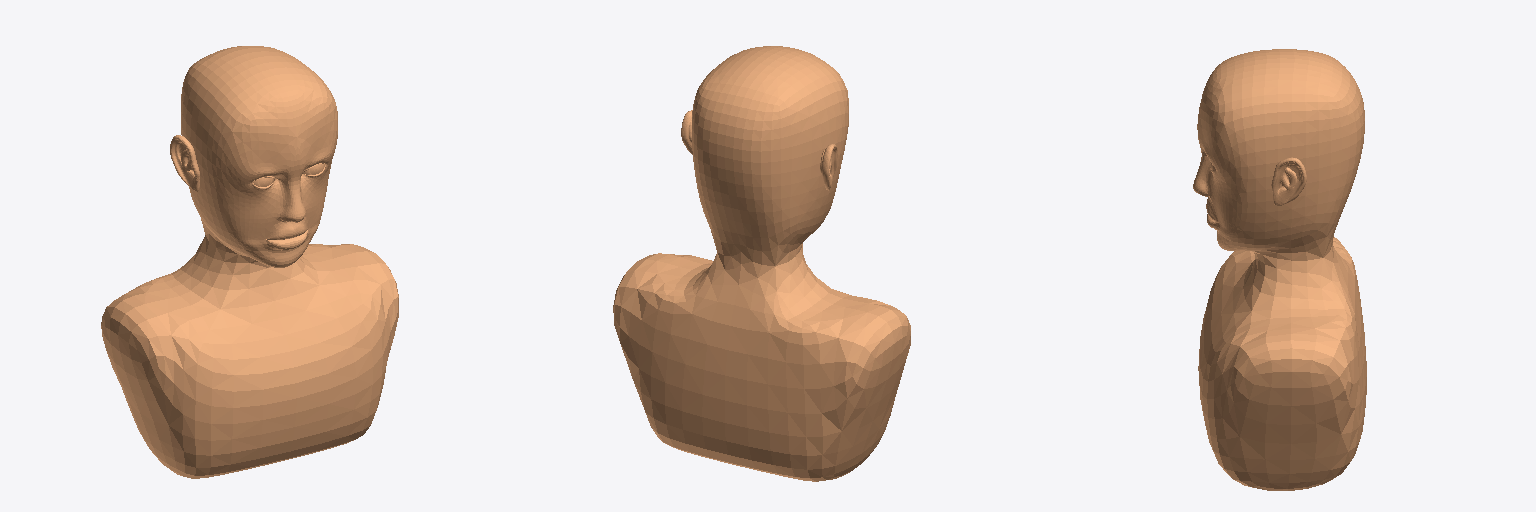
Rendered from doll.obj.
3 renders of one model, left to right at view 1: azimuth 30°, elevation 25°; view 2: azimuth 150°, elevation 25°; view 3: azimuth 270°, elevation 25°, orthographic.
Parts seen in each view (by area): view 1: Mannequin; view 2: Mannequin; view 3: Mannequin.
Boxes of the visible parts, x1=… form: Mannequin: x1=101, y1=46, x2=398, y2=478; Mannequin: x1=613, y1=46, x2=910, y2=481; Mannequin: x1=1193, y1=49, x2=1366, y2=490.
Size of the model in its own units: 9.14 by 13.07 by 5.2.